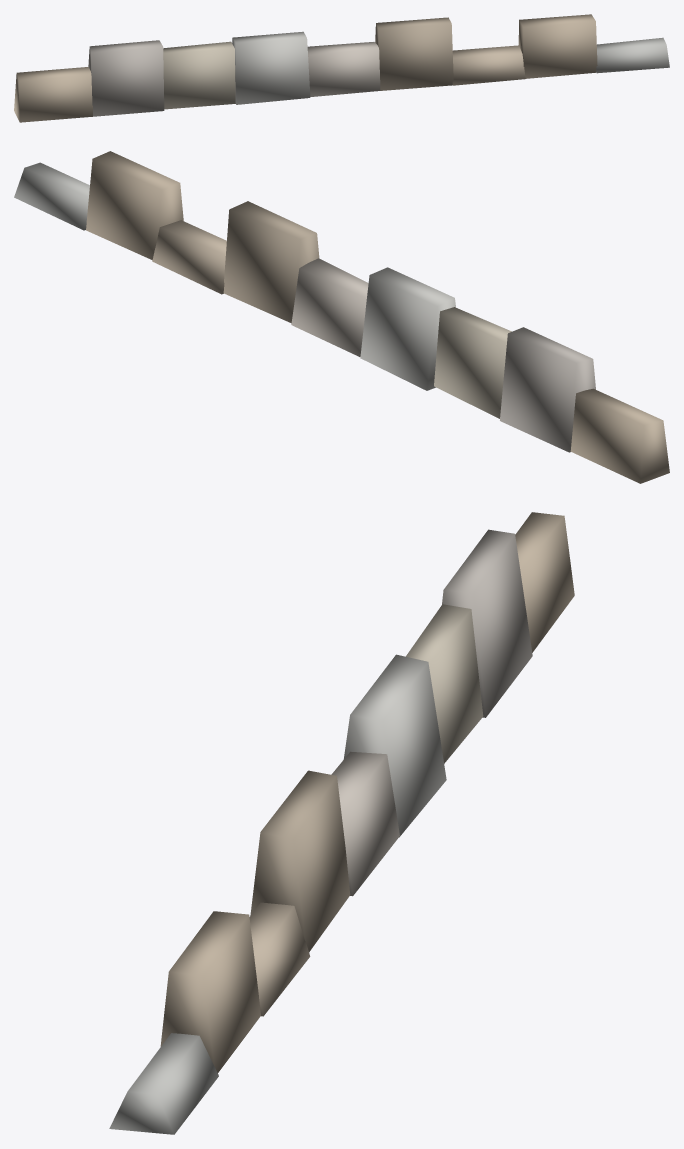
File: farm_2_16_far.glb
The picture shows the model from 3 angles, top to bottom: view 1: azimuth 30°, elevation 25°; view 2: azimuth 150°, elevation 25°; view 3: azimuth 270°, elevation 25°; orthographic projection. The views are drawn at different scales.
Parts seen in each view (by area): view 1: geometry_0; view 2: geometry_0; view 3: geometry_0.
Boxes of the visible parts, x1,y1,x2,y2 form: geometry_0: (14,14,669,122); geometry_0: (14,151,669,483); geometry_0: (109,512,574,1134).
Bounding box in the file's own units: 13.84 × 1.52 × 5.02.
